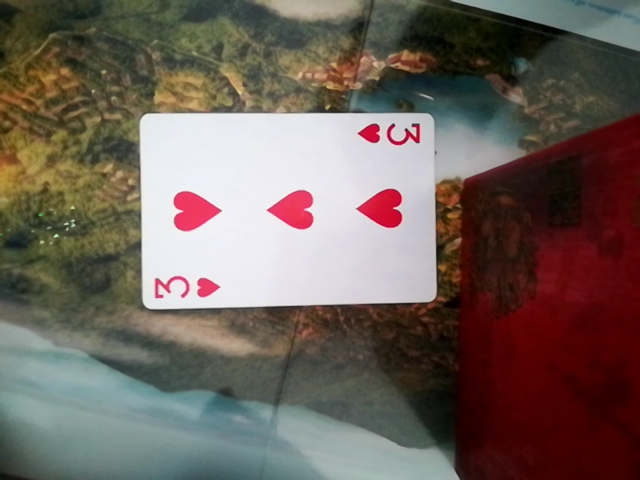hx 3: (135, 108, 437, 312)
